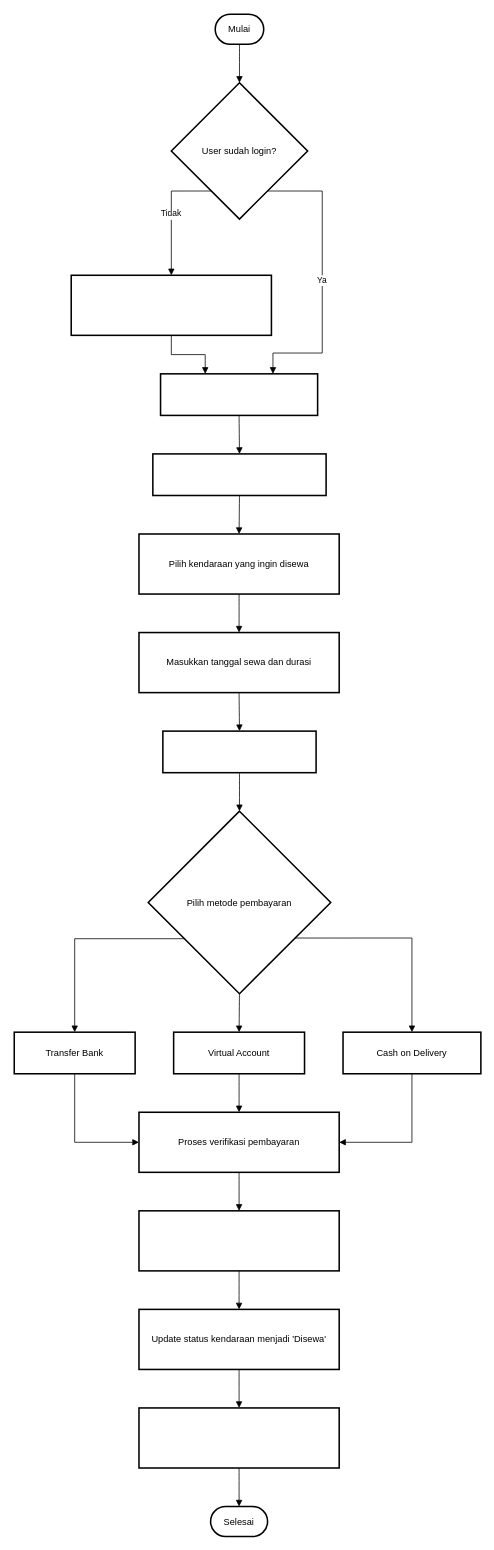
Some shapes in this 494 by 1550 pixel diagram are drawn without their labels. Each missing label, with the box of its shape:
Konfirmasi pesanan: (162, 730, 316, 773)
Lihat daftar kendaraan: (152, 453, 326, 496)
Masuk ke Dashboard: (159, 373, 318, 416)
Tampilkan bukti pembayaran: (138, 1210, 340, 1271)
Tampilkan detail penyewaan: (138, 1407, 340, 1468)
User melakukan Login atau Registrasi: (70, 274, 272, 336)
